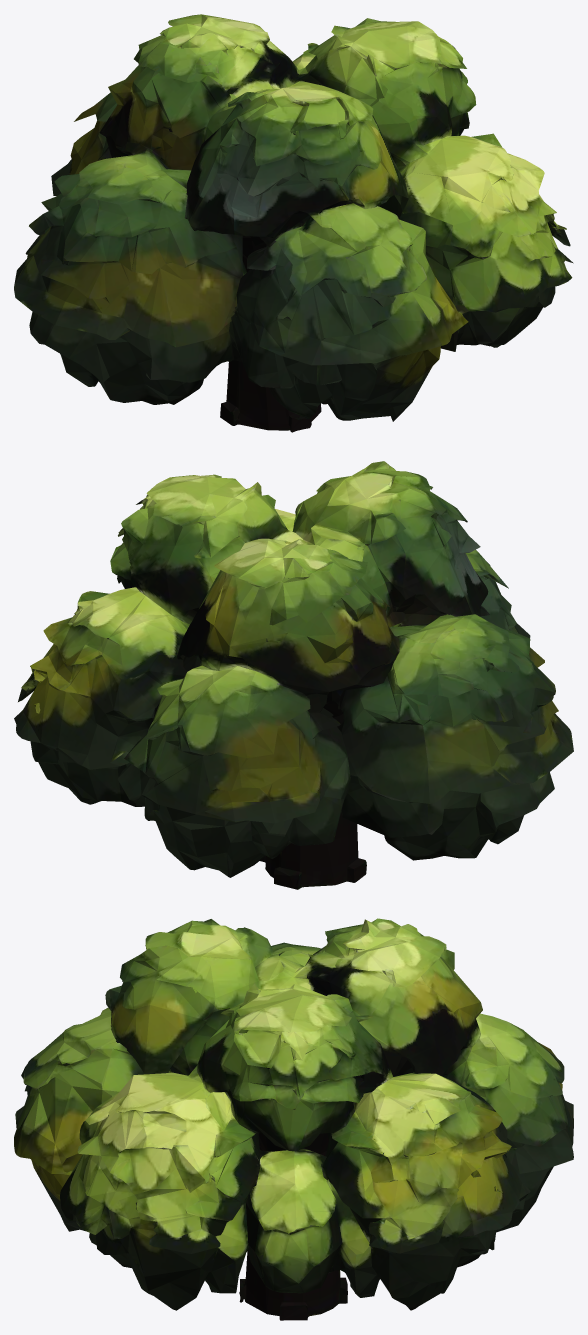
File: bush_green.glb
The picture shows the model from 3 angles, top to bottom: view 1: azimuth 30°, elevation 25°; view 2: azimuth 150°, elevation 25°; view 3: azimuth 270°, elevation 25°; orthographic projection.
Visible parts, largest first — view 1: world; view 2: world; view 3: world.
Part boxes in pixels (<box>): world: <box>14,14,573,432</box>; world: <box>14,461,573,889</box>; world: <box>14,918,573,1320</box>.
Size of the model in its own units: 0.981 by 0.7022 by 0.9981.
1 material, 1 textured.
